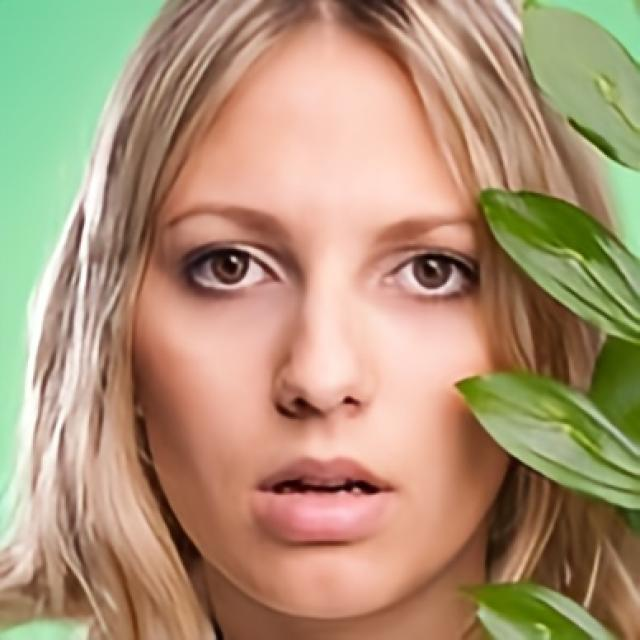surprise: (132, 21, 538, 632)
